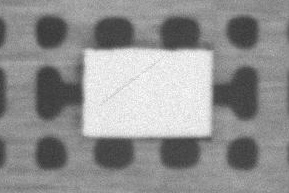DIE_CRACK: (148, 40, 238, 70)
